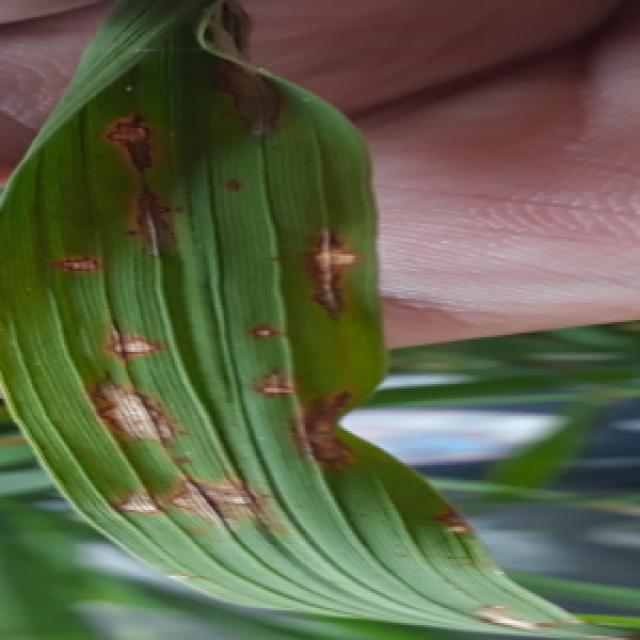Rice: (210, 48, 292, 148), (97, 470, 260, 517), (299, 224, 366, 326), (298, 383, 362, 480), (89, 380, 180, 448), (106, 100, 162, 169), (136, 185, 180, 262), (50, 248, 108, 287), (101, 329, 163, 363), (245, 312, 290, 358), (253, 373, 294, 409)
